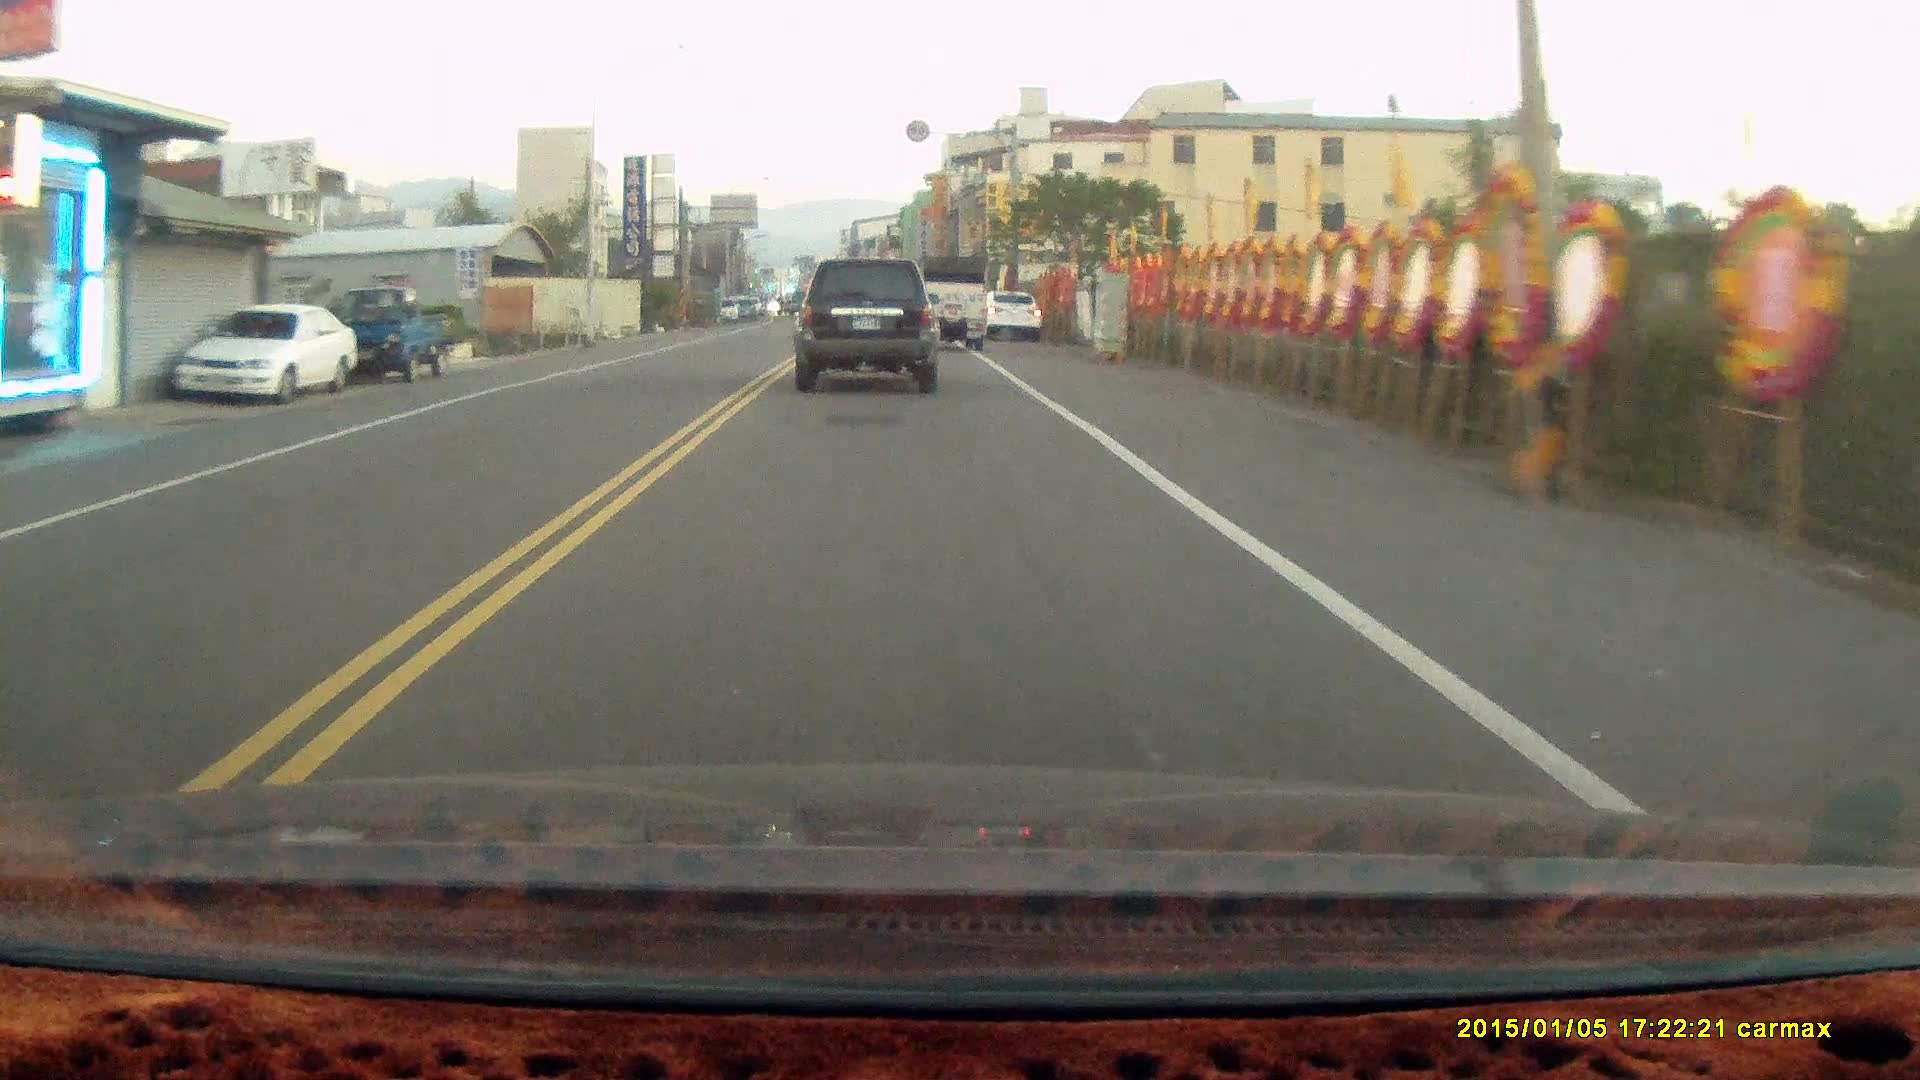vehicle: (796, 255, 944, 393), (171, 305, 357, 407), (330, 289, 459, 386), (916, 256, 993, 351), (982, 287, 1043, 343)
